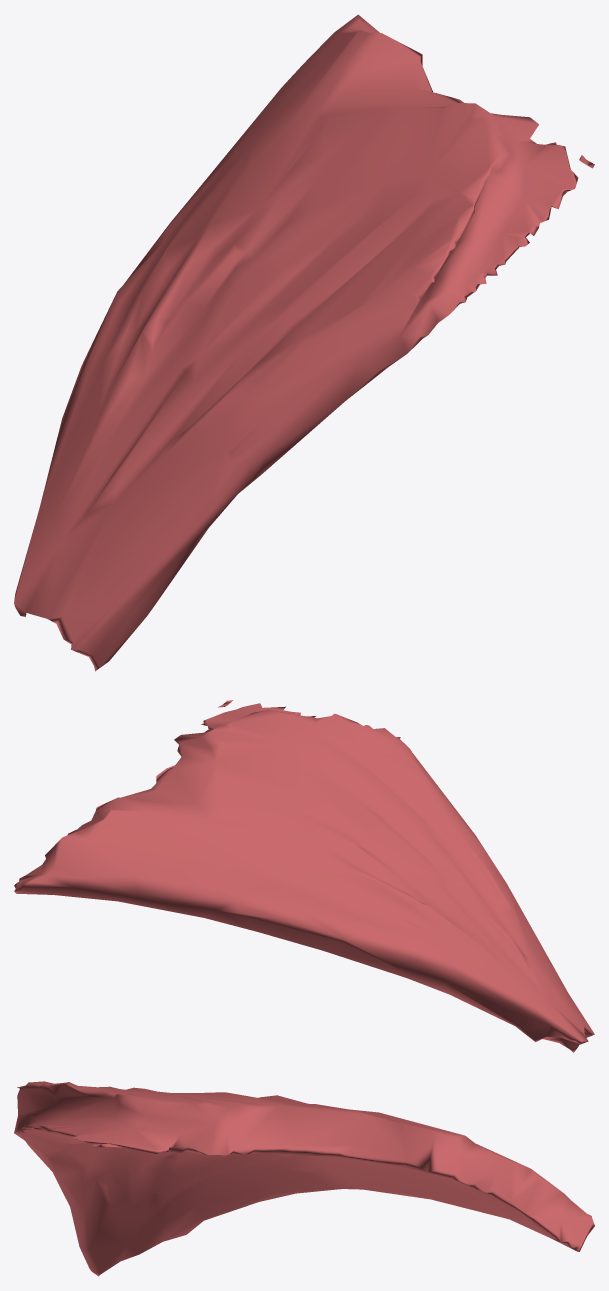
3 renders of one model, top to bottom at view 1: azimuth 30°, elevation 25°; view 2: azimuth 150°, elevation 25°; view 3: azimuth 270°, elevation 25°, orthographic. The views are drawn at different scales.
Visible parts, largest first — view 1: 右侧尾骨肌; view 2: 右侧尾骨肌; view 3: 右侧尾骨肌.
Boxes of the visible parts, x1,y1,x2,y2 form: 右侧尾骨肌: [14, 14, 594, 671]; 右侧尾骨肌: [14, 700, 594, 1052]; 右侧尾骨肌: [14, 1081, 594, 1276].
Size of the model in its own units: 0.0653 by 0.0426 by 0.0604.
